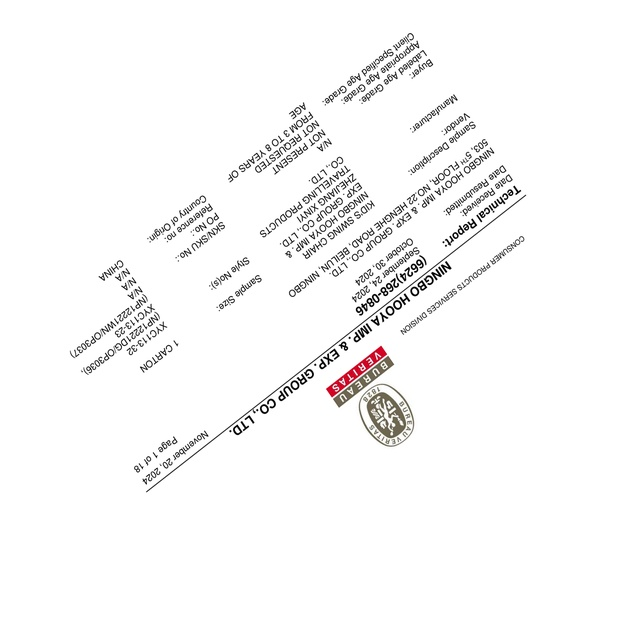bureau_veritas: (325, 344, 415, 448)
